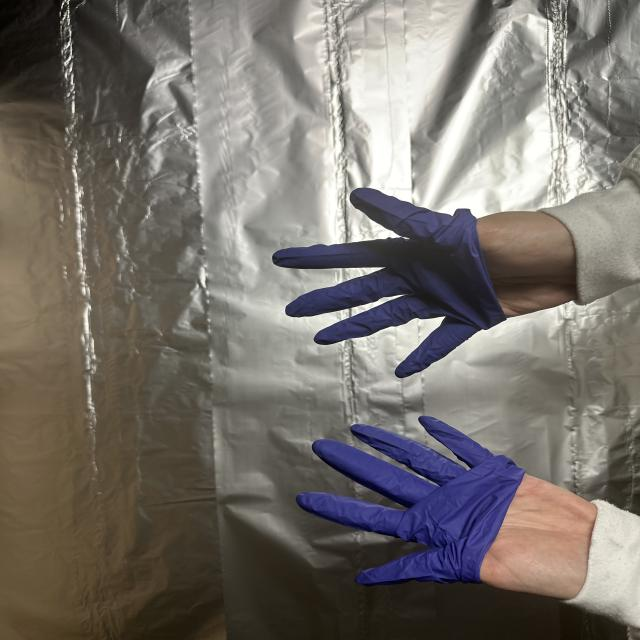glove_partial: (269, 183, 583, 381), (298, 415, 594, 600)
